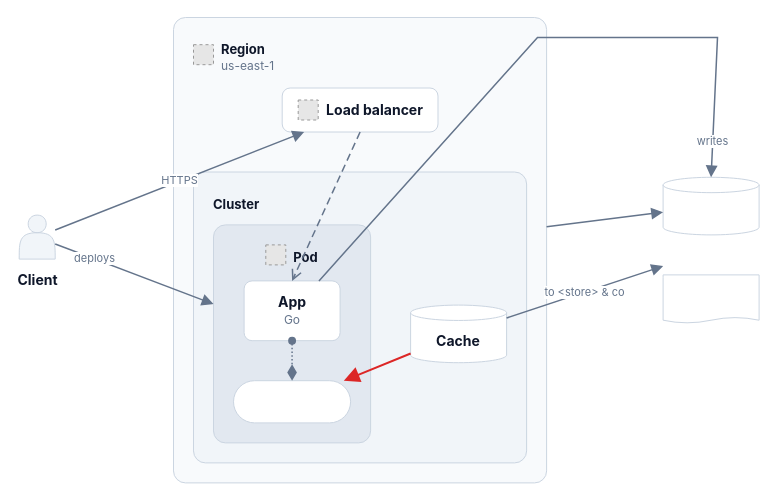
Some shapes in this 777 by 501 pixel diagram are drawn without their labels. Grey dashed boxes stand in for pictures. Each missing label, with the centre of its shape:
"Bucket" belongs at (x=710, y=298).
"DB" belongs at (x=710, y=205).
"Sidecar" belongs at (x=291, y=401).
